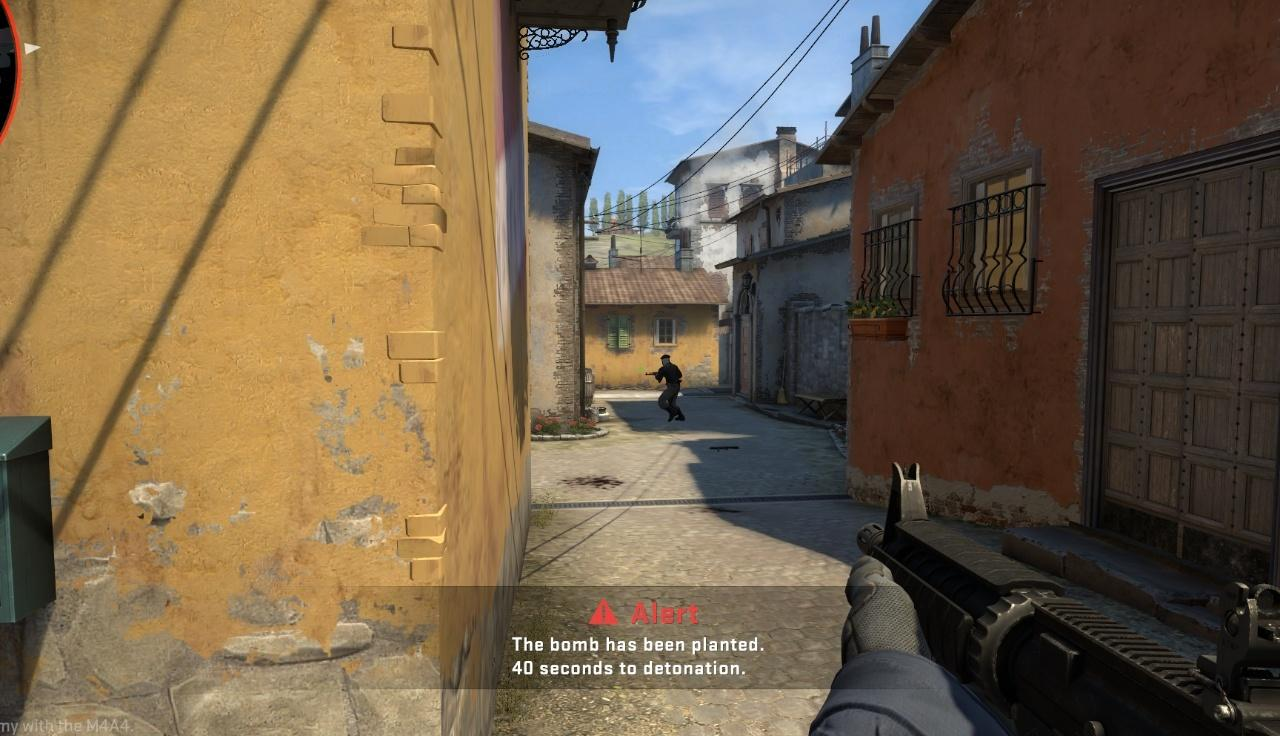rifle: (833, 467, 1280, 734)
tt: (644, 352, 683, 421)
tthead: (660, 354, 671, 365)
